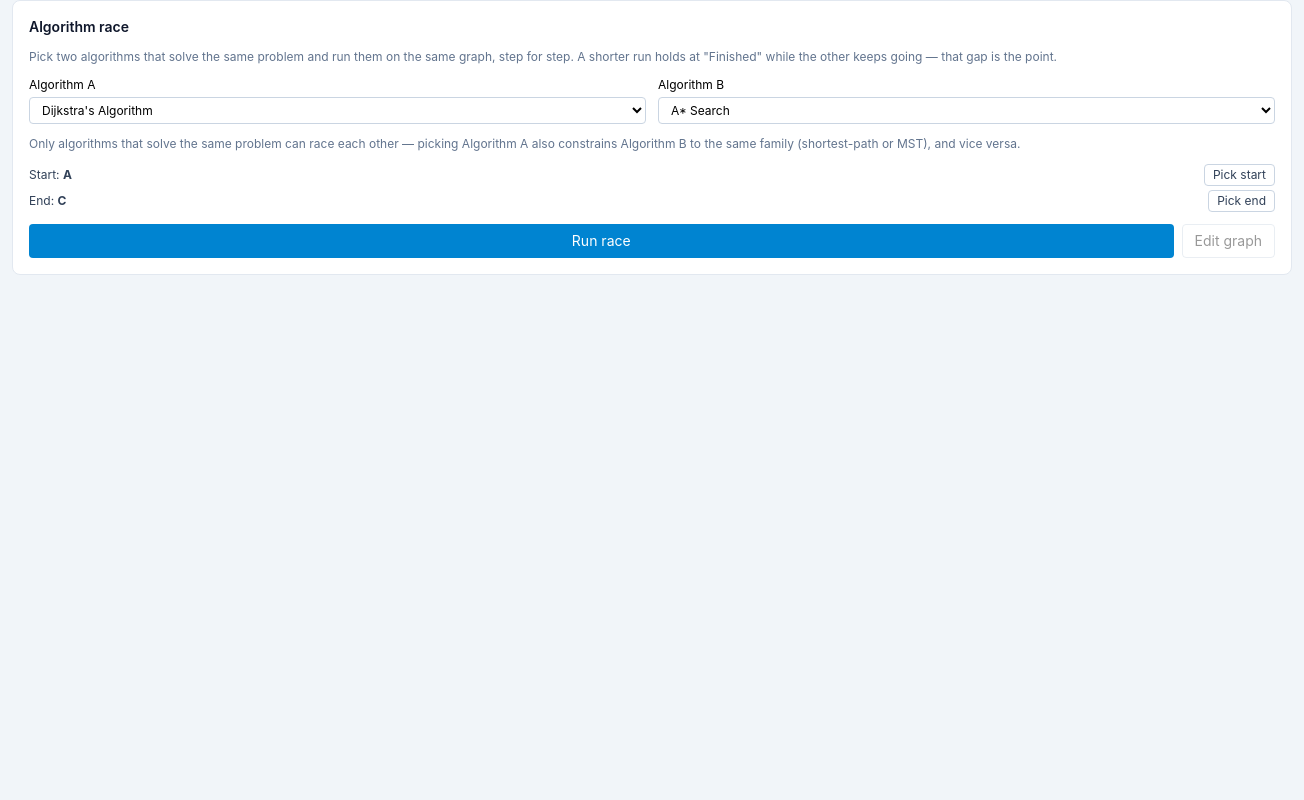
it: RacePanel › shows a "Finished" badge for the shorter trace once the shared index passes its end
Step 1. Click the button "Run race" → (601, 241), box [29,224,1174,258]
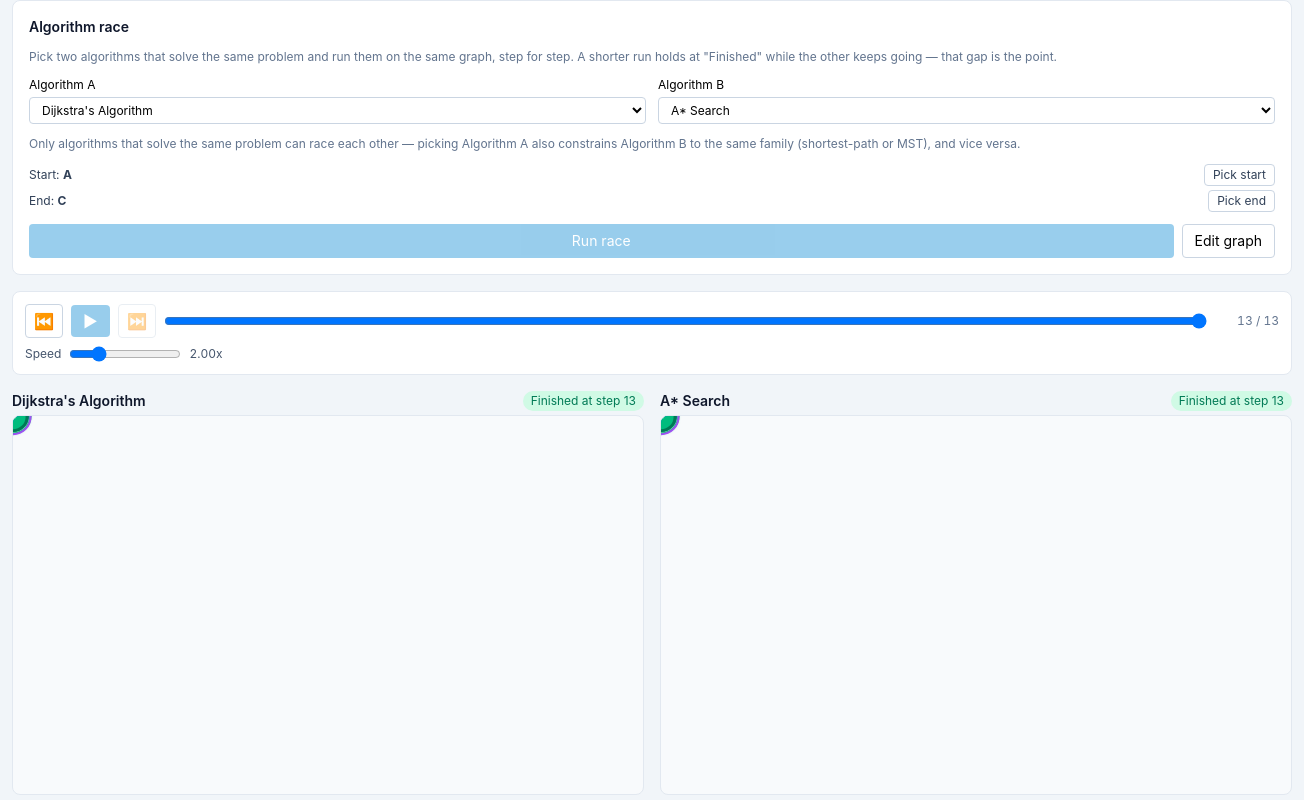
Check: the text with test id "race-a-finished" is shown, box [523,391,644,411]
